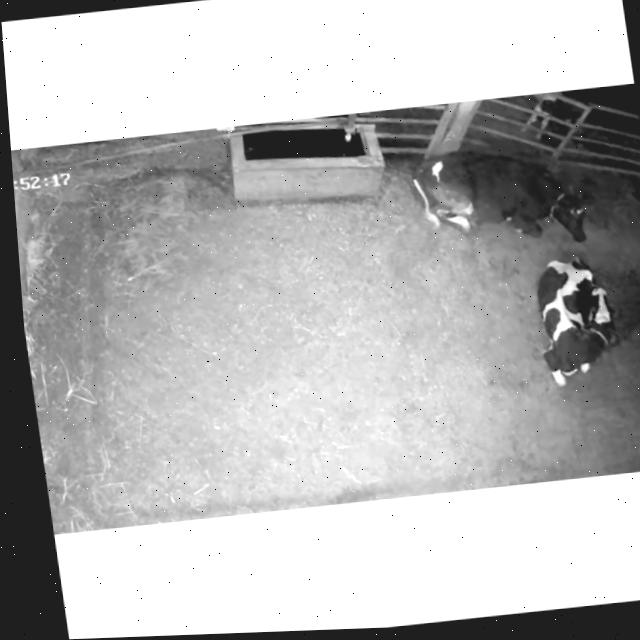lay: (395, 125, 612, 269), (512, 243, 626, 406)
